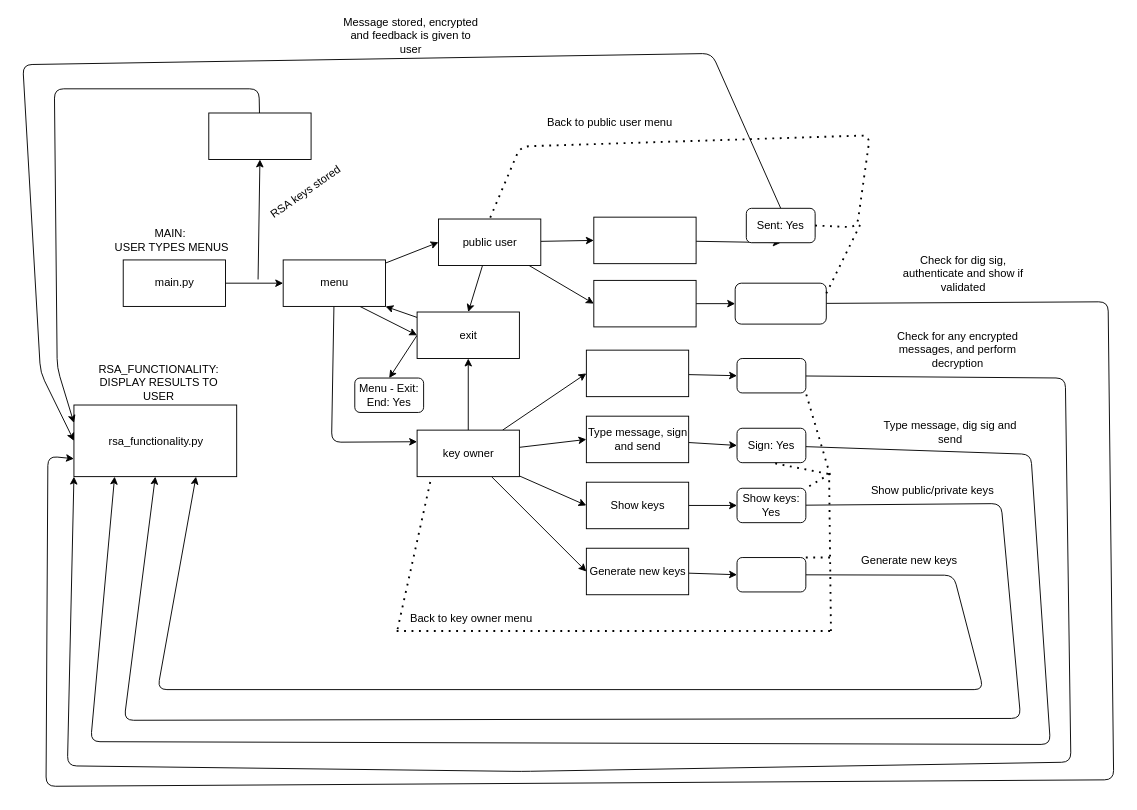
Image size: 1137x810. Some labels were removed from this diagram. Each missing label, with the centre of its shape:
"Authenticate dig sig" goes at point 644,303.
"Decrypt message" goes at point 637,373.
"Decrypt: Yes" goes at point 771,375.
"keys generated" goes at point 259,135.
"Message to Authenticate:Yes" goes at point 780,303.
"New keys: Yes" goes at point 771,574.
"Type message, encrypt and send" goes at point 644,240.
